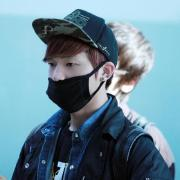WRONG: (46, 56, 101, 111)
